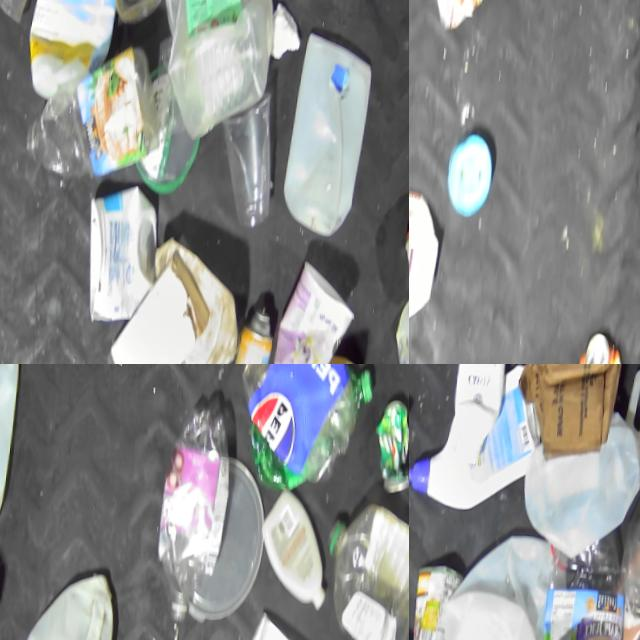can: (369, 388, 409, 509), (411, 564, 460, 640), (226, 304, 279, 364), (573, 319, 635, 364)
milk_jug: (283, 34, 380, 241), (156, 0, 281, 139), (525, 441, 640, 547), (438, 546, 557, 640), (4, 570, 121, 640), (0, 364, 26, 571), (409, 176, 446, 319), (434, 0, 511, 35)
non_white_jug: (24, 0, 120, 105)
plastic_bottle: (27, 56, 153, 189), (232, 364, 359, 485)
